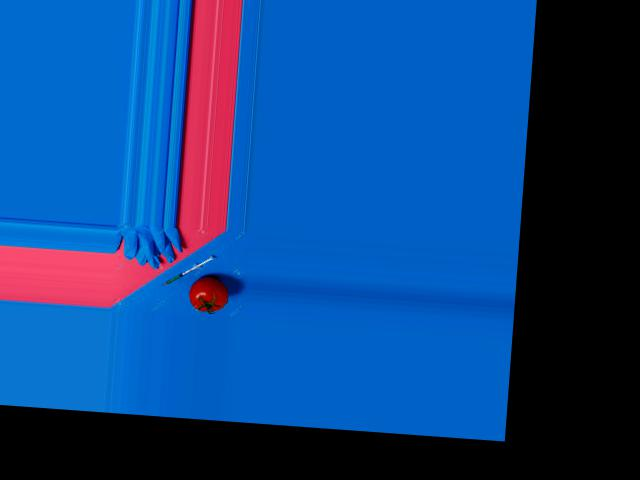tomato: (187, 274, 228, 312)
